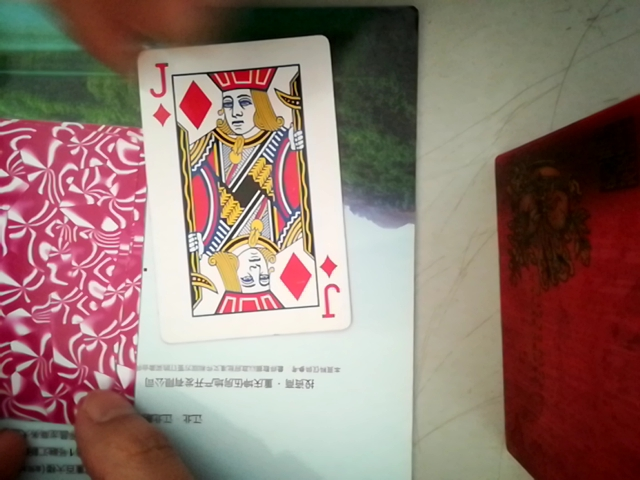fk j: (146, 26, 348, 350)
